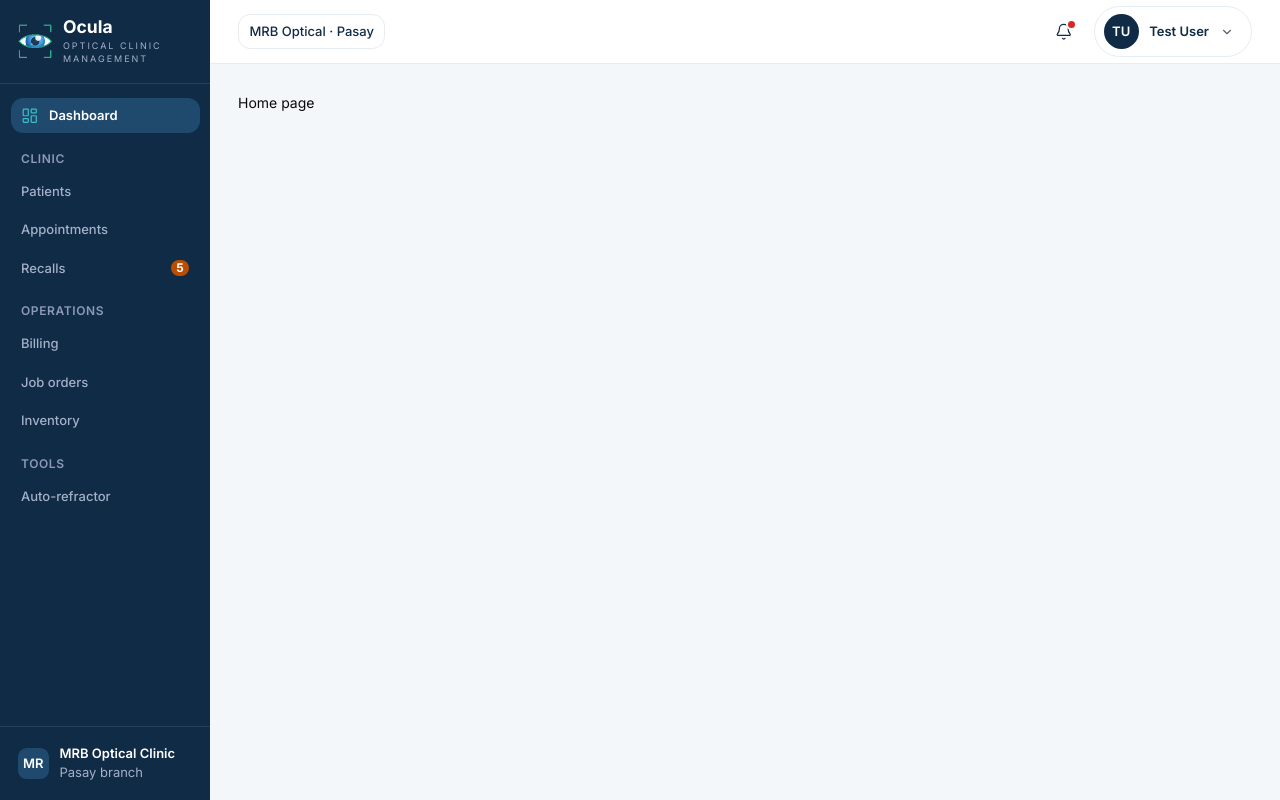
it: AppShell account › the account menu has Settings and Sign Out, and nothing else
Click the button with aria-label "Account menu" at (1173, 32), box 1094,6 -> 1252,57
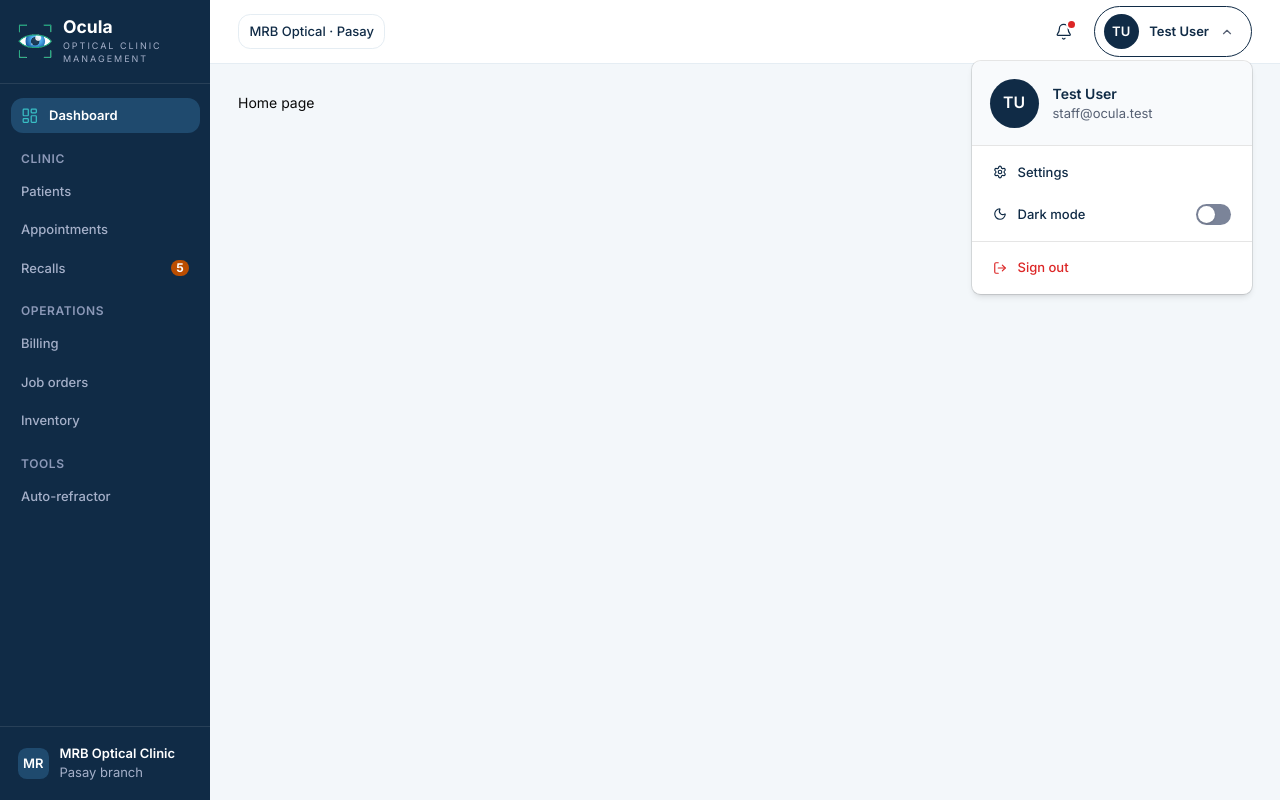
Now the menu items read "Settings", "Sign out", in this order, box 993,164 -> 1068,180; 993,260 -> 1069,276
